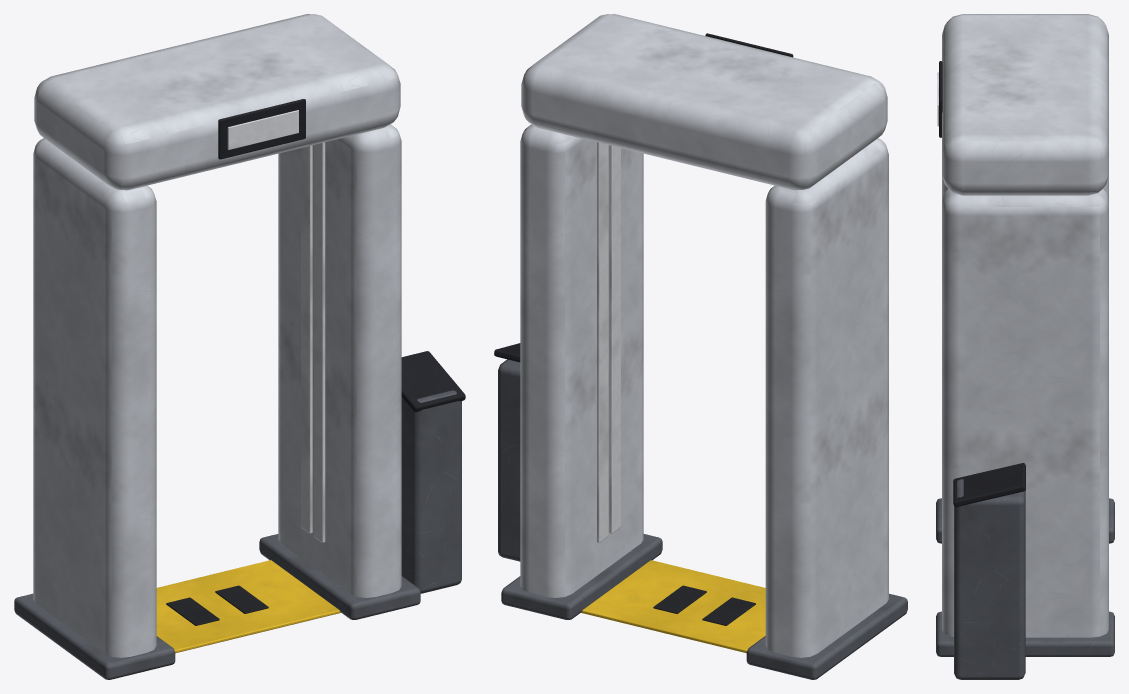
Rendered from BodyScanner.fbx.
3 renders of one model, left to right at view 1: azimuth 30°, elevation 25°; view 2: azimuth 150°, elevation 25°; view 3: azimuth 270°, elevation 25°, orthographic. The views are drawn at different scales.
Visible parts, largest first — view 1: BodyScanner_MetalWhite, BodyScanner_MetalGrey, BodyScanner_PlasticWhite_glow.001, BodyScanner_MetalYellow, BodyScanner_PlasticDark, BodyScanner_PlasticWhite_glow.003; view 2: BodyScanner_MetalWhite, BodyScanner_MetalGrey, BodyScanner_PlasticWhite_glow.001, BodyScanner_MetalYellow, BodyScanner_PlasticDark; view 3: BodyScanner_MetalWhite, BodyScanner_MetalGrey, BodyScanner_PlasticDark.
Boxes of the visible parts, left/top/right/bottom form: BodyScanner_MetalWhite: left=33, top=14, right=401, bottom=657; BodyScanner_MetalGrey: left=14, top=390, right=461, bottom=679; BodyScanner_PlasticWhite_glow.001: left=301, top=142, right=325, bottom=542; BodyScanner_MetalYellow: left=156, top=560, right=340, bottom=653; BodyScanner_PlasticDark: left=166, top=99, right=465, bottom=625; BodyScanner_PlasticWhite_glow.003: left=227, top=110, right=298, bottom=149; BodyScanner_MetalWhite: left=520, top=14, right=888, bottom=657; BodyScanner_MetalGrey: left=498, top=359, right=907, bottom=679; BodyScanner_PlasticWhite_glow.001: left=597, top=142, right=620, bottom=542; BodyScanner_MetalYellow: left=581, top=560, right=765, bottom=653; BodyScanner_PlasticDark: left=494, top=33, right=793, bottom=625; BodyScanner_MetalWhite: left=942, top=14, right=1108, bottom=637; BodyScanner_MetalGrey: left=936, top=479, right=1114, bottom=679; BodyScanner_PlasticDark: left=939, top=61, right=1025, bottom=506.
Size of the model in its own units: 677 by 945 by 300.
Materials: 6 (6 with a texture image).
